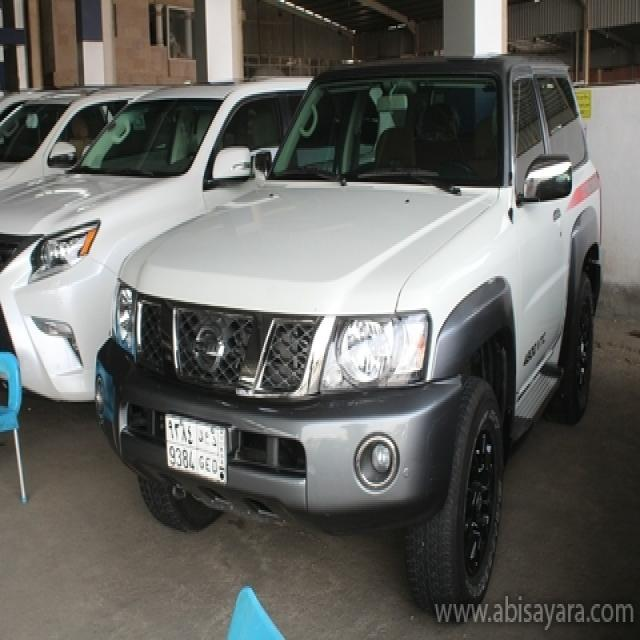license_plate: (164, 412, 229, 486)
